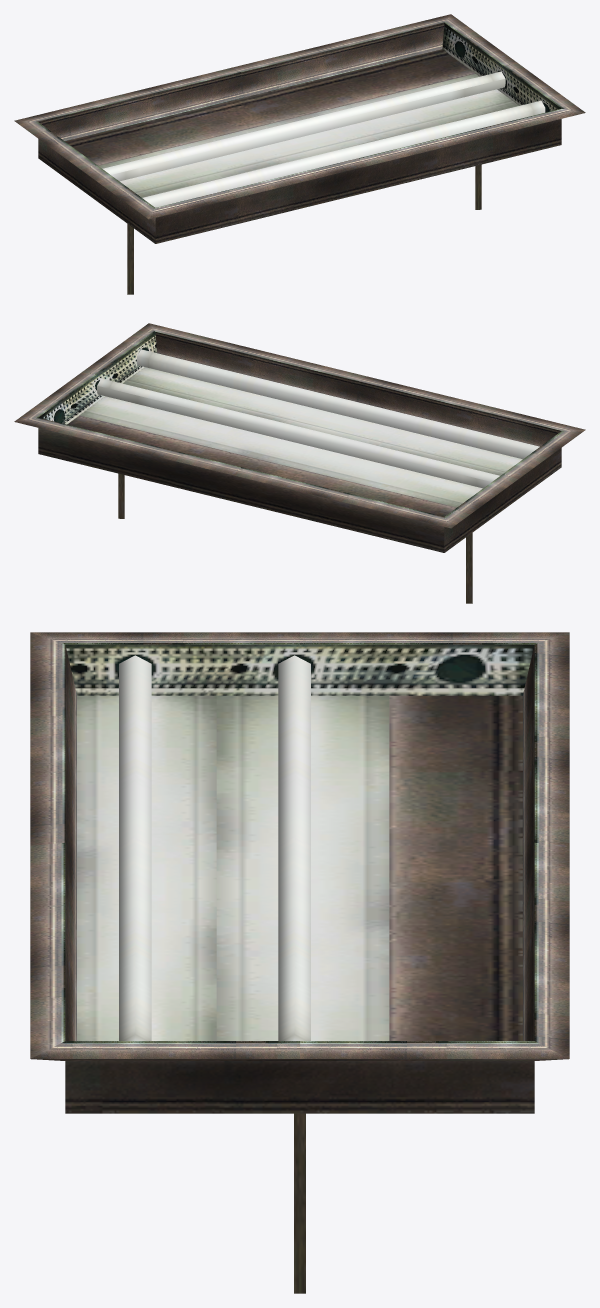
The model's file is hang_slum4.fbx.
The picture shows the model from 3 angles, top to bottom: view 1: azimuth 30°, elevation 25°; view 2: azimuth 150°, elevation 25°; view 3: azimuth 270°, elevation 25°; orthographic projection. The views are drawn at different scales.
Visible parts, largest first — view 1: mesh_0; view 2: mesh_0; view 3: mesh_0.
Boxes of the visible parts, x1=… form: mesh_0: x1=14, y1=14, x2=585, y2=294; mesh_0: x1=14, y1=323, x2=585, y2=603; mesh_0: x1=30, y1=632, x2=569, y2=1293.
Bounding box in the file's own units: 172 × 51.7 × 92.
Materials: 1 (1 with a texture image).
